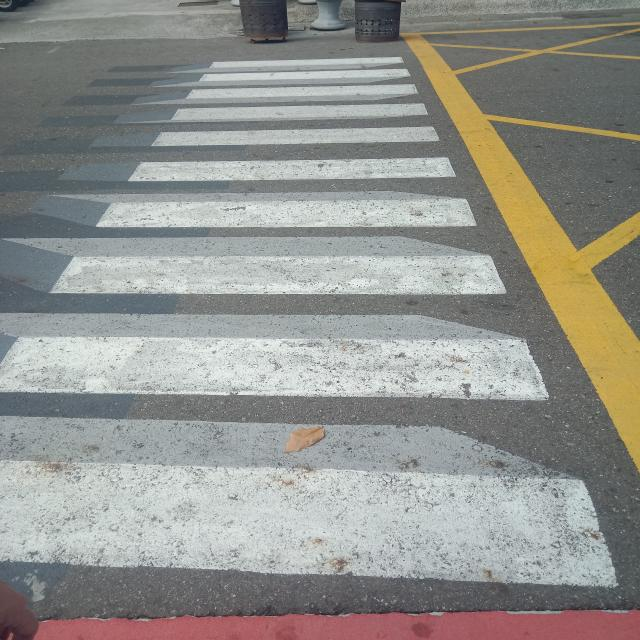zebra_crossing: (0, 143, 6, 640)
